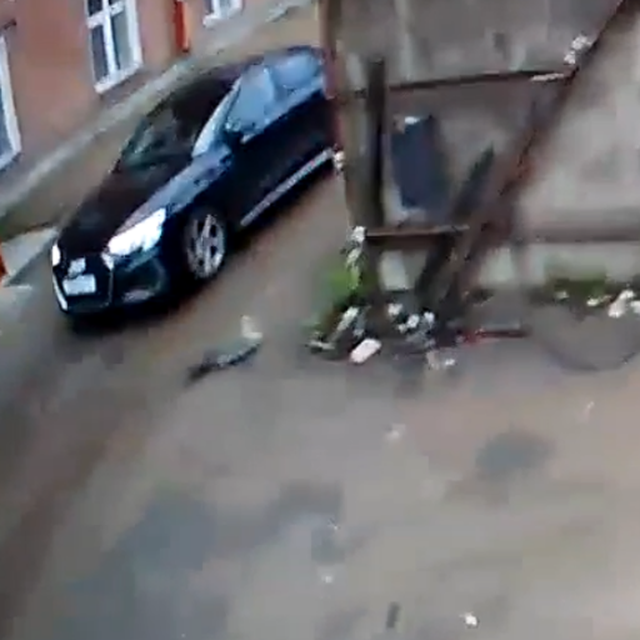car: (49, 45, 389, 316)
